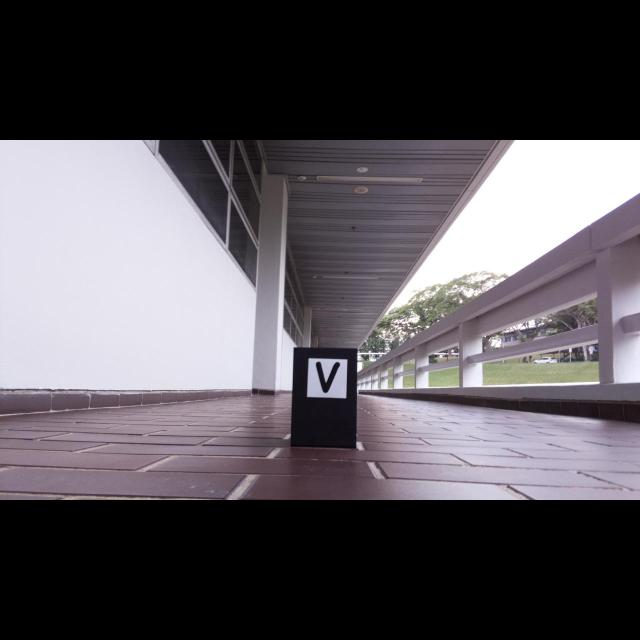V: (316, 362, 340, 393)
